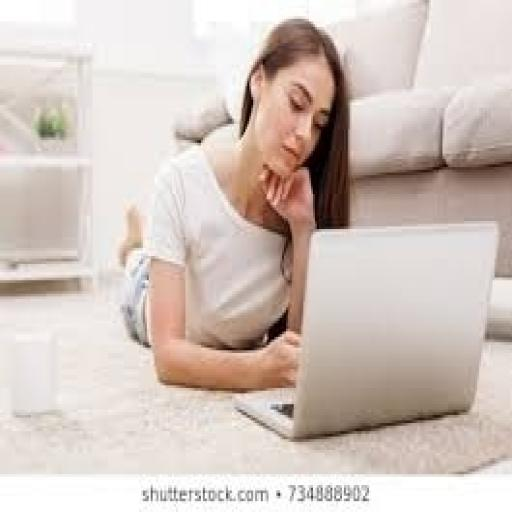using_laptop: (232, 218, 498, 442)
